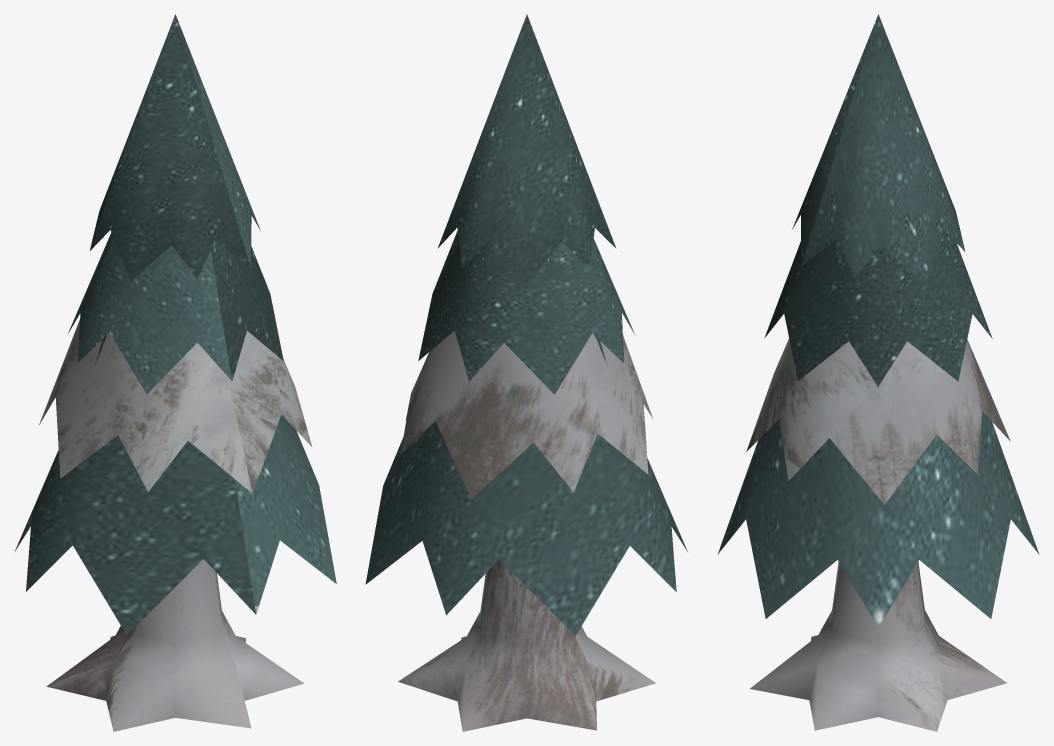
File: Tree_3.fbx
3 renders of one model, left to right at view 1: azimuth 30°, elevation 25°; view 2: azimuth 150°, elevation 25°; view 3: azimuth 270°, elevation 25°, orthographic.
Visible parts, largest first — view 1: Tree_3; view 2: Tree_3; view 3: Tree_3.
Boxes of the visible parts, x1,y1,x2,y2 form: Tree_3: (14, 14, 336, 731); Tree_3: (365, 14, 687, 731); Tree_3: (717, 14, 1039, 731).
Bounding box in the file's own units: 6 × 12.85 × 5.61.
1 material, 1 textured.
